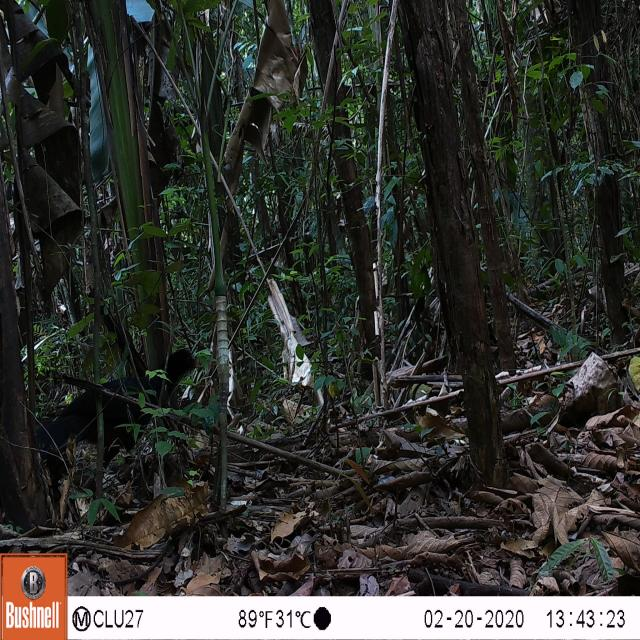Salvins Curassow: (31, 318, 222, 528)
